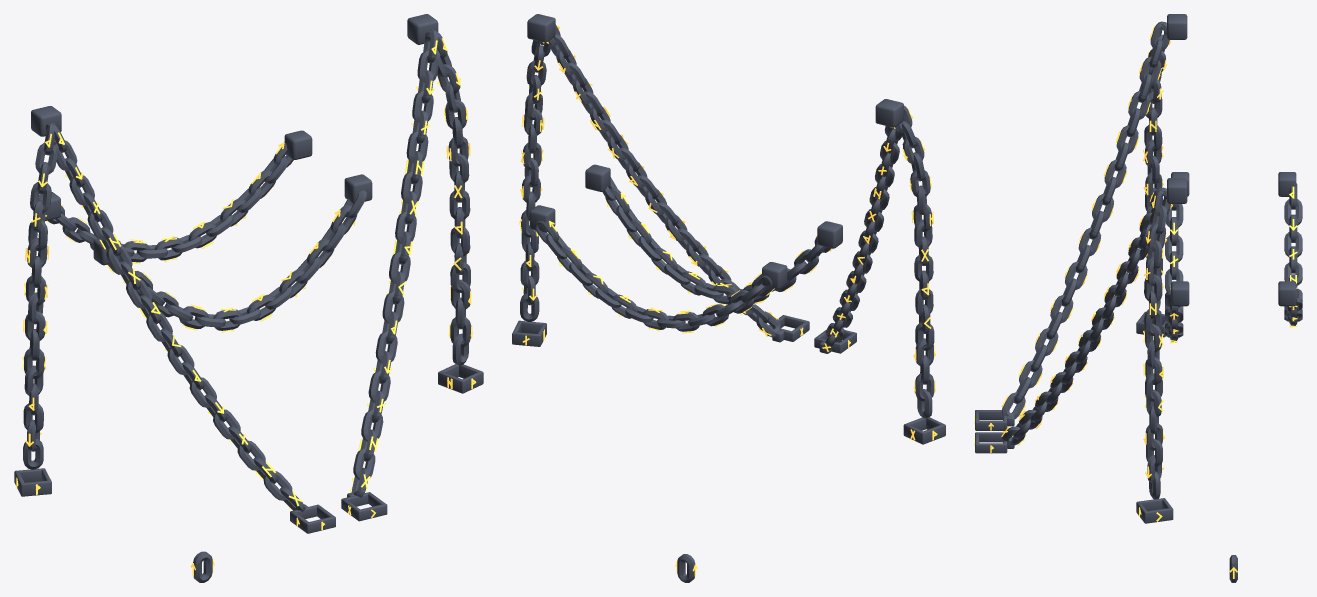
Rendered from LA_GateChains.glb.
3 renders of one model, left to right at view 1: azimuth 30°, elevation 25°; view 2: azimuth 150°, elevation 25°; view 3: azimuth 270°, elevation 25°, orthographic. The views are drawn at different scales.
Visible parts, largest first — view 1: LA_GateChains_Hanging, LA_GateChains_Lashed, LA_GateChains_Cuff_R, LA_GateChains_Cuff_L; view 2: LA_GateChains_Hanging, LA_GateChains_Lashed, LA_GateChains_Cuff_R, LA_GateChains_Cuff_L; view 3: LA_GateChains_Hanging, LA_GateChains_Lashed, LA_GateChains_Cuff_L, LA_GateChains_Cuff_R.
Part boxes in pixels (<box>): LA_GateChains_Hanging: <box>14,14,483,496</box>; LA_GateChains_Lashed: <box>46,29,438,512</box>; LA_GateChains_Cuff_R: <box>341,492,387,521</box>; LA_GateChains_Cuff_L: <box>290,504,335,533</box>; LA_GateChains_Hanging: <box>512,14,945,444</box>; LA_GateChains_Lashed: <box>546,24,901,351</box>; LA_GateChains_Cuff_R: <box>767,315,809,342</box>; LA_GateChains_Cuff_L: <box>814,330,856,353</box>; LA_GateChains_Hanging: <box>1136,14,1302,523</box>; LA_GateChains_Lashed: <box>1001,22,1170,445</box>; LA_GateChains_Cuff_L: <box>974,410,1014,430</box>; LA_GateChains_Cuff_R: <box>974,432,1014,453</box>.
Bounding box in the file's own units: 23.56 × 26.32 × 16.22.
